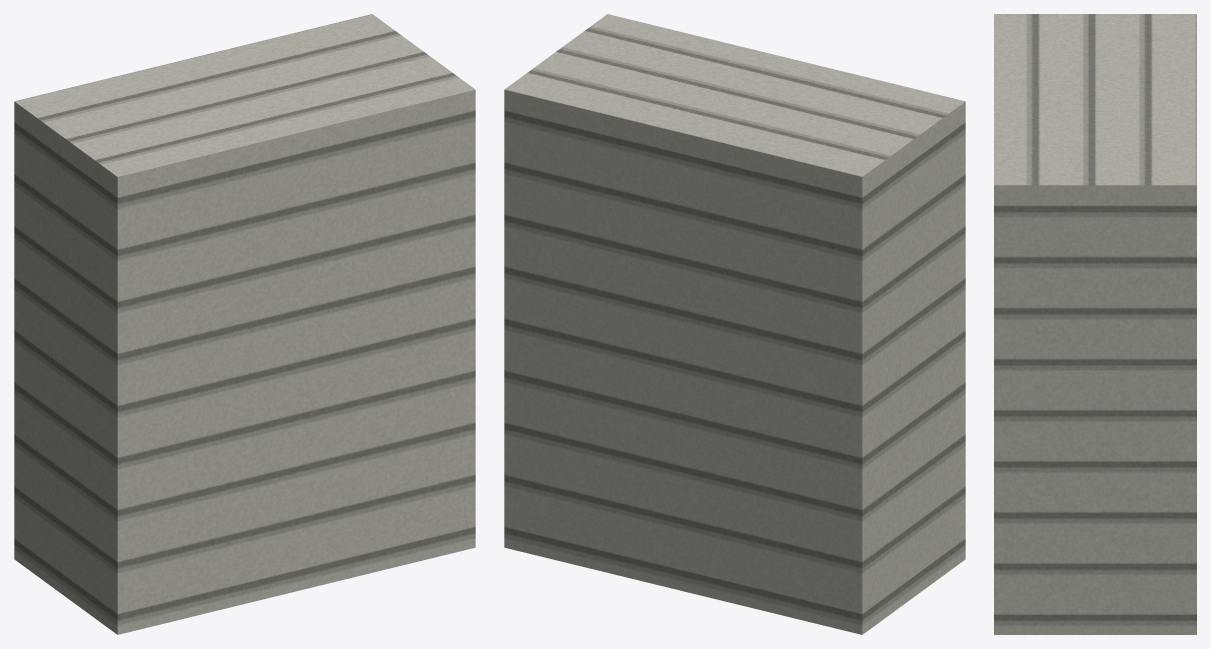
File: card_catalog.glb
3 renders of one model, left to right at view 1: azimuth 30°, elevation 25°; view 2: azimuth 150°, elevation 25°; view 3: azimuth 270°, elevation 25°, orthographic.
Parts seen in each view (by area): view 1: card_catalog-col; view 2: card_catalog-col; view 3: card_catalog-col.
Boxes of the visible parts, x1,y1,x2,y2 form: card_catalog-col: (14,14,475,634); card_catalog-col: (504,14,965,634); card_catalog-col: (994,14,1196,634).
Bounding box in the file's own units: 0.9 × 1.1 × 0.45.
Materials: 1 (1 with a texture image).
